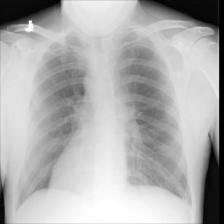normal: (17, 20, 194, 209)
